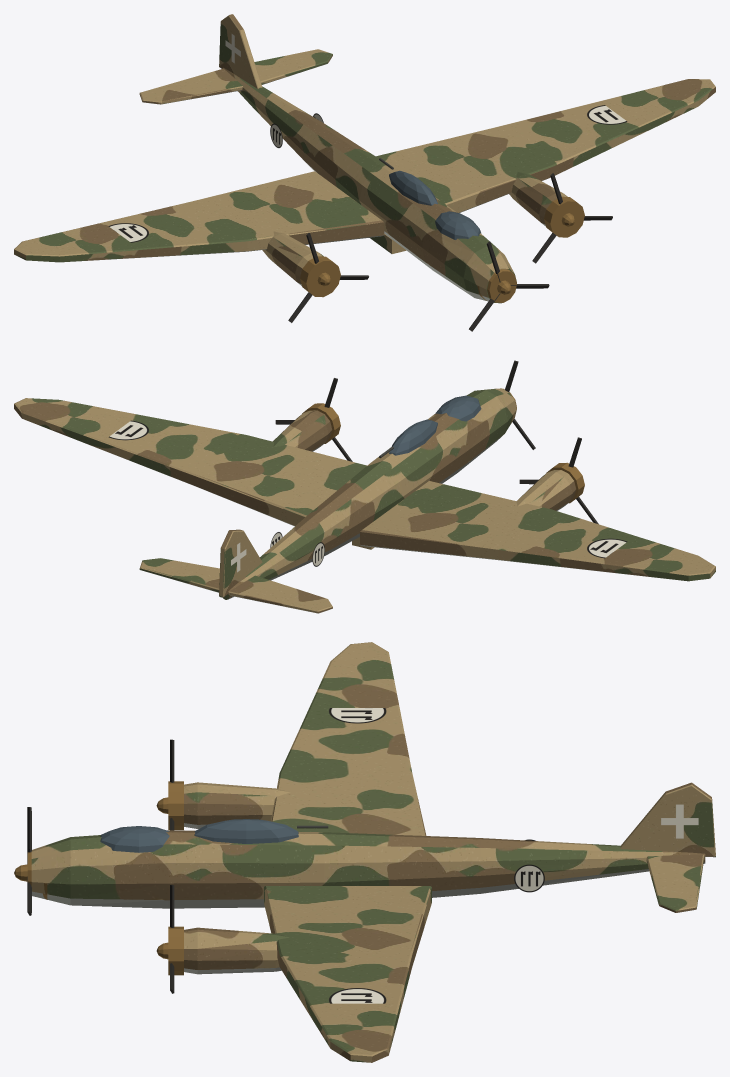
File: bomber.glb
The picture shows the model from 3 angles, top to bottom: view 1: azimuth 30°, elevation 25°; view 2: azimuth 150°, elevation 25°; view 3: azimuth 270°, elevation 25°; orthographic projection. The views are drawn at different scales.
Visible parts, largest first — view 1: aile_droite, aile_gauche, fuselage_coque, fuseau_moteur (×2), stabilisateur_droite, verriere (×2), derive, stabilisateur_gauche, capot_g, capot_d, capot_moteur, insigne_aile_g (+1 smaller); view 2: aile_gauche, aile_droite, fuselage_coque, fuseau_moteur (×2), stabilisateur_droite, verriere (×2), derive, stabilisateur_gauche, insigne_aile_d, insigne_aile_g, capot_g, capot_d; view 3: fuselage_coque, aile_gauche, aile_droite, fuseau_moteur (×2), derive, verriere (×2), stabilisateur_gauche, insigne_aile_g, insigne_aile_d, capot_g, capot_d, marquage_3.
Part boxes in pixels (x1,y1,x2,y2): aile_droite: [14, 171, 384, 262]; aile_gauche: [376, 79, 715, 212]; fuselage_coque: [222, 67, 516, 303]; fuseau_moteur (×2): [262, 172, 567, 285]; stabilisateur_droite: [139, 68, 242, 104]; verriere (×2): [389, 170, 481, 239]; derive: [219, 14, 262, 88]; stabilisateur_gauche: [254, 49, 332, 84]; capot_g: [544, 196, 584, 237]; capot_d: [300, 256, 340, 297]; capot_moteur: [477, 269, 516, 302]; insigne_aile_g: [587, 105, 627, 124]; aile_gauche: [14, 398, 366, 526]; aile_droite: [360, 481, 715, 581]; fuselage_coque: [223, 388, 516, 599]; fuseau_moteur (×2): [273, 410, 576, 510]; stabilisateur_droite: [229, 575, 332, 613]; verriere (×2): [389, 395, 481, 455]; derive: [219, 529, 262, 597]; stabilisateur_gauche: [139, 558, 219, 592]; insigne_aile_d: [587, 538, 627, 558]; insigne_aile_g: [108, 420, 148, 440]; capot_g: [302, 403, 340, 443]; capot_d: [546, 462, 584, 503]; fuselage_coque: [31, 830, 705, 908]; aile_gauche: [264, 886, 431, 1062]; aile_droite: [271, 642, 426, 835]; fuseau_moteur (×2): [184, 782, 290, 974]; derive: [620, 782, 715, 857]; verriere (×2): [100, 819, 298, 852]; stabilisateur_gauche: [646, 854, 704, 912]; insigne_aile_g: [329, 988, 386, 1003]; insigne_aile_d: [329, 708, 386, 723]; capot_g: [168, 926, 183, 975]; capot_d: [168, 781, 183, 829]; marquage_3: [514, 864, 544, 892].
Size of the model in its own units: 5.02 by 0.7952 by 3.6.
10 materials, 4 textured.
